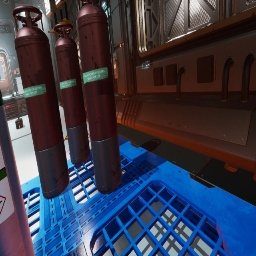0: (0, 89, 35, 256), (10, 92, 23, 97)
EmergencyPhone ,: (16, 67, 20, 74)
FireAlarm ,: (14, 70, 16, 74)
FirstAidBox ,: (15, 116, 24, 130)
NitrogenTank ,: (12, 6, 70, 199), (76, 0, 122, 193), (54, 23, 90, 165)
SafetySwitchPanel ,: (113, 52, 121, 79)
